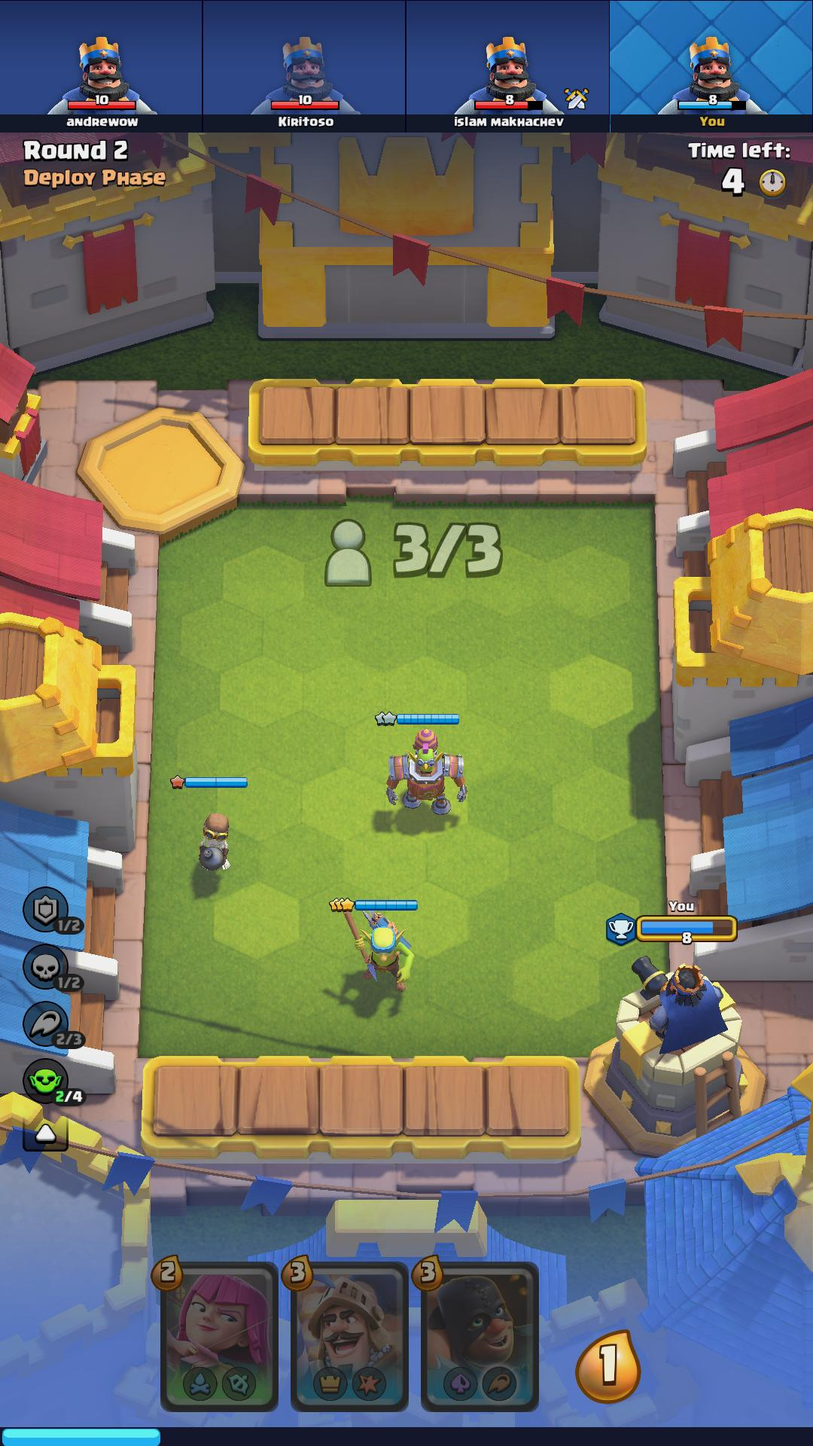bomber: (195, 809, 236, 876)
hand-archer: (159, 1262, 277, 1408)
hand-executioner: (421, 1264, 537, 1407)
hand-prince: (289, 1263, 409, 1409)
machine: (381, 728, 471, 817)
spear: (338, 909, 418, 990)
